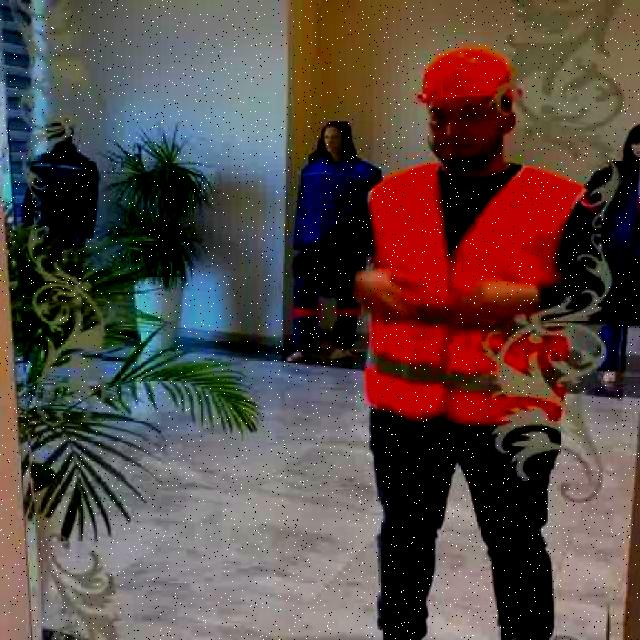Helmet: (417, 47, 520, 101)
Mask: (358, 160, 590, 428), (286, 158, 386, 358), (580, 154, 640, 374), (16, 133, 109, 269)
